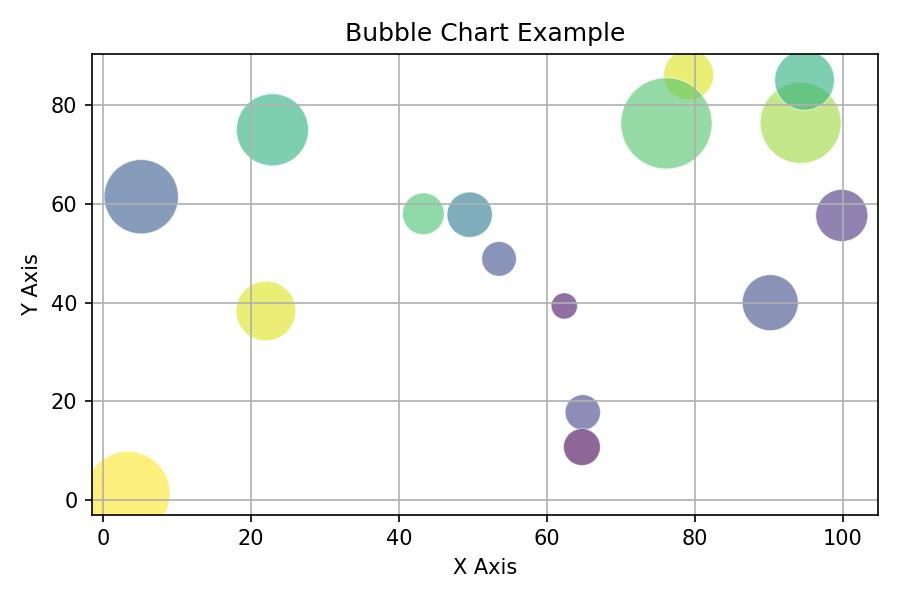axis: (82, 505, 881, 549), (73, 48, 103, 535)
circle: (619, 78, 714, 168), (755, 86, 840, 159), (234, 90, 313, 167), (105, 158, 179, 231), (92, 451, 175, 514), (236, 280, 298, 343), (741, 273, 800, 331), (773, 55, 839, 100), (816, 188, 870, 242), (448, 189, 494, 238), (403, 189, 444, 239), (662, 53, 715, 90), (479, 238, 519, 278), (563, 393, 602, 430), (564, 427, 601, 464), (552, 290, 581, 321)
